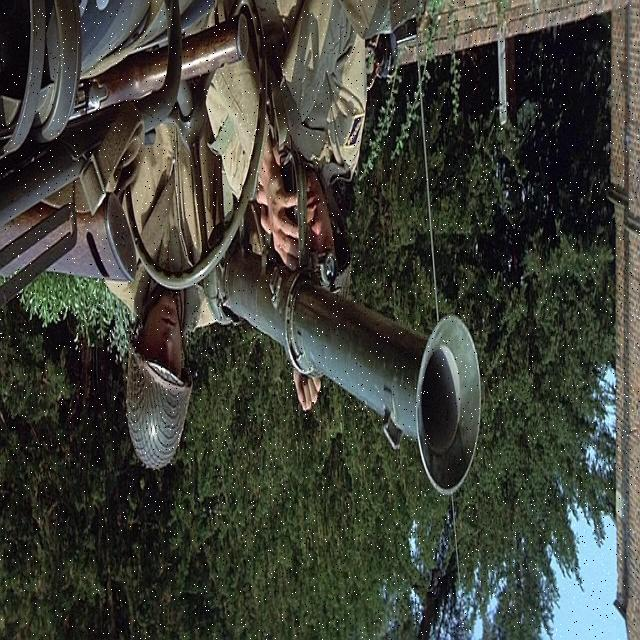bazooka: (203, 216, 494, 507)
